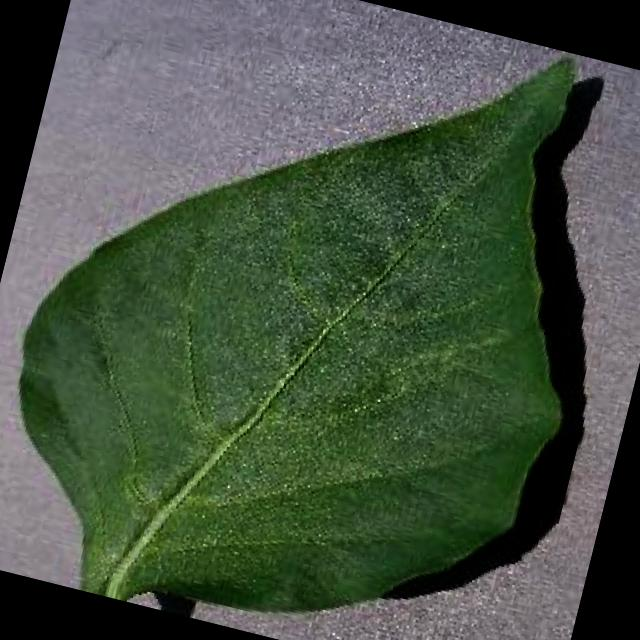Leaf: (84, 109, 617, 608)
